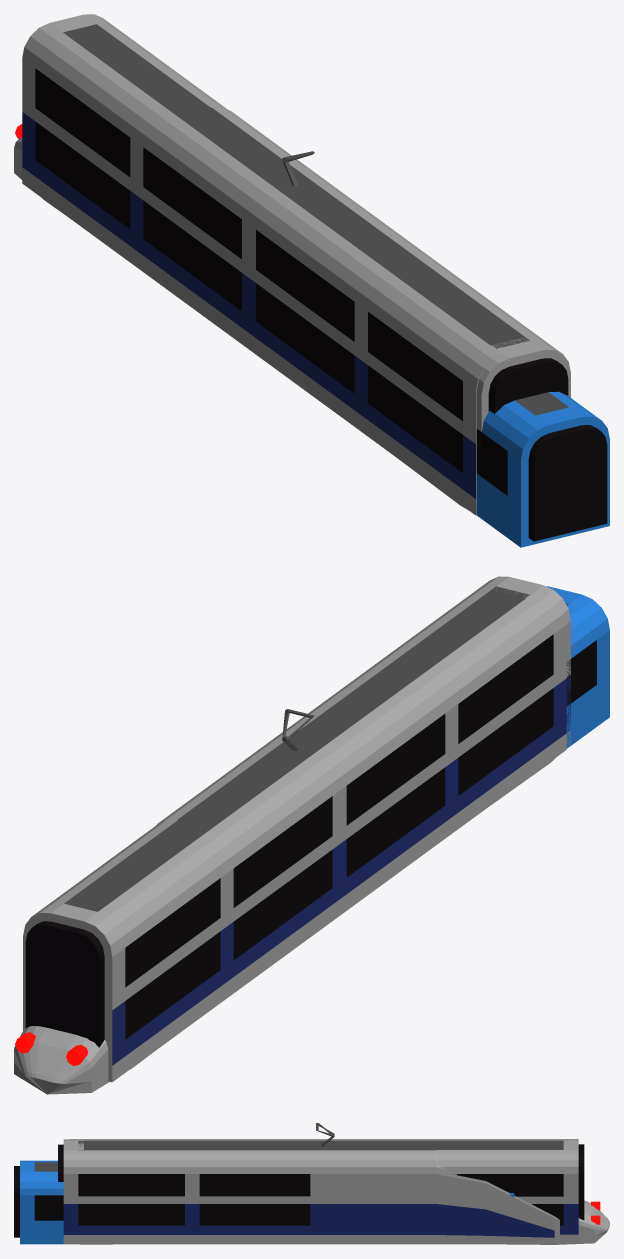
Rendered from trains.glb.
3 renders of one model, top to bottom at view 1: azimuth 30°, elevation 25°; view 2: azimuth 150°, elevation 25°; view 3: azimuth 270°, elevation 25°, orthographic. The views are drawn at different scales.
Visible parts, largest first — view 1: tgv_milieu, tgv_avant, tgv_arrière, train_arrière; view 2: tgv_milieu, tgv_avant, tgv_arrière, train_arrière; view 3: tgv_arrière, tgv_avant, train_arrière, tgv_milieu.
Boxes of the visible parts, x1,y1,x2,y2 form: tgv_milieu: (22,103,536,515); tgv_avant: (22,14,468,510); tgv_arrière: (14,107,570,506); train_arrière: (476,391,609,547); tgv_milieu: (23,583,566,1064); tgv_avant: (23,672,555,1082); tgv_arrière: (14,576,570,1094); train_arrière: (546,586,609,748); tgv_arrière: (58,1139,609,1244); tgv_avant: (80,1139,584,1244); train_arrière: (14,1160,154,1244); tgv_milieu: (63,1123,578,1234).
Size of the model in its own units: 3.11 by 6.32 by 31.82.
